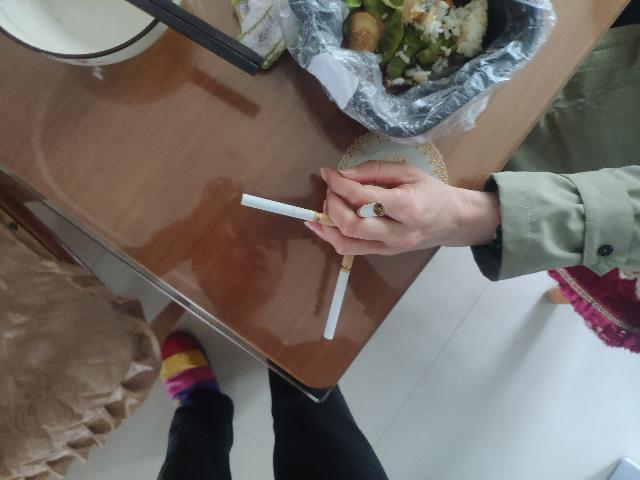Smoking: (240, 192, 344, 230), (324, 244, 356, 340), (355, 203, 387, 219)
